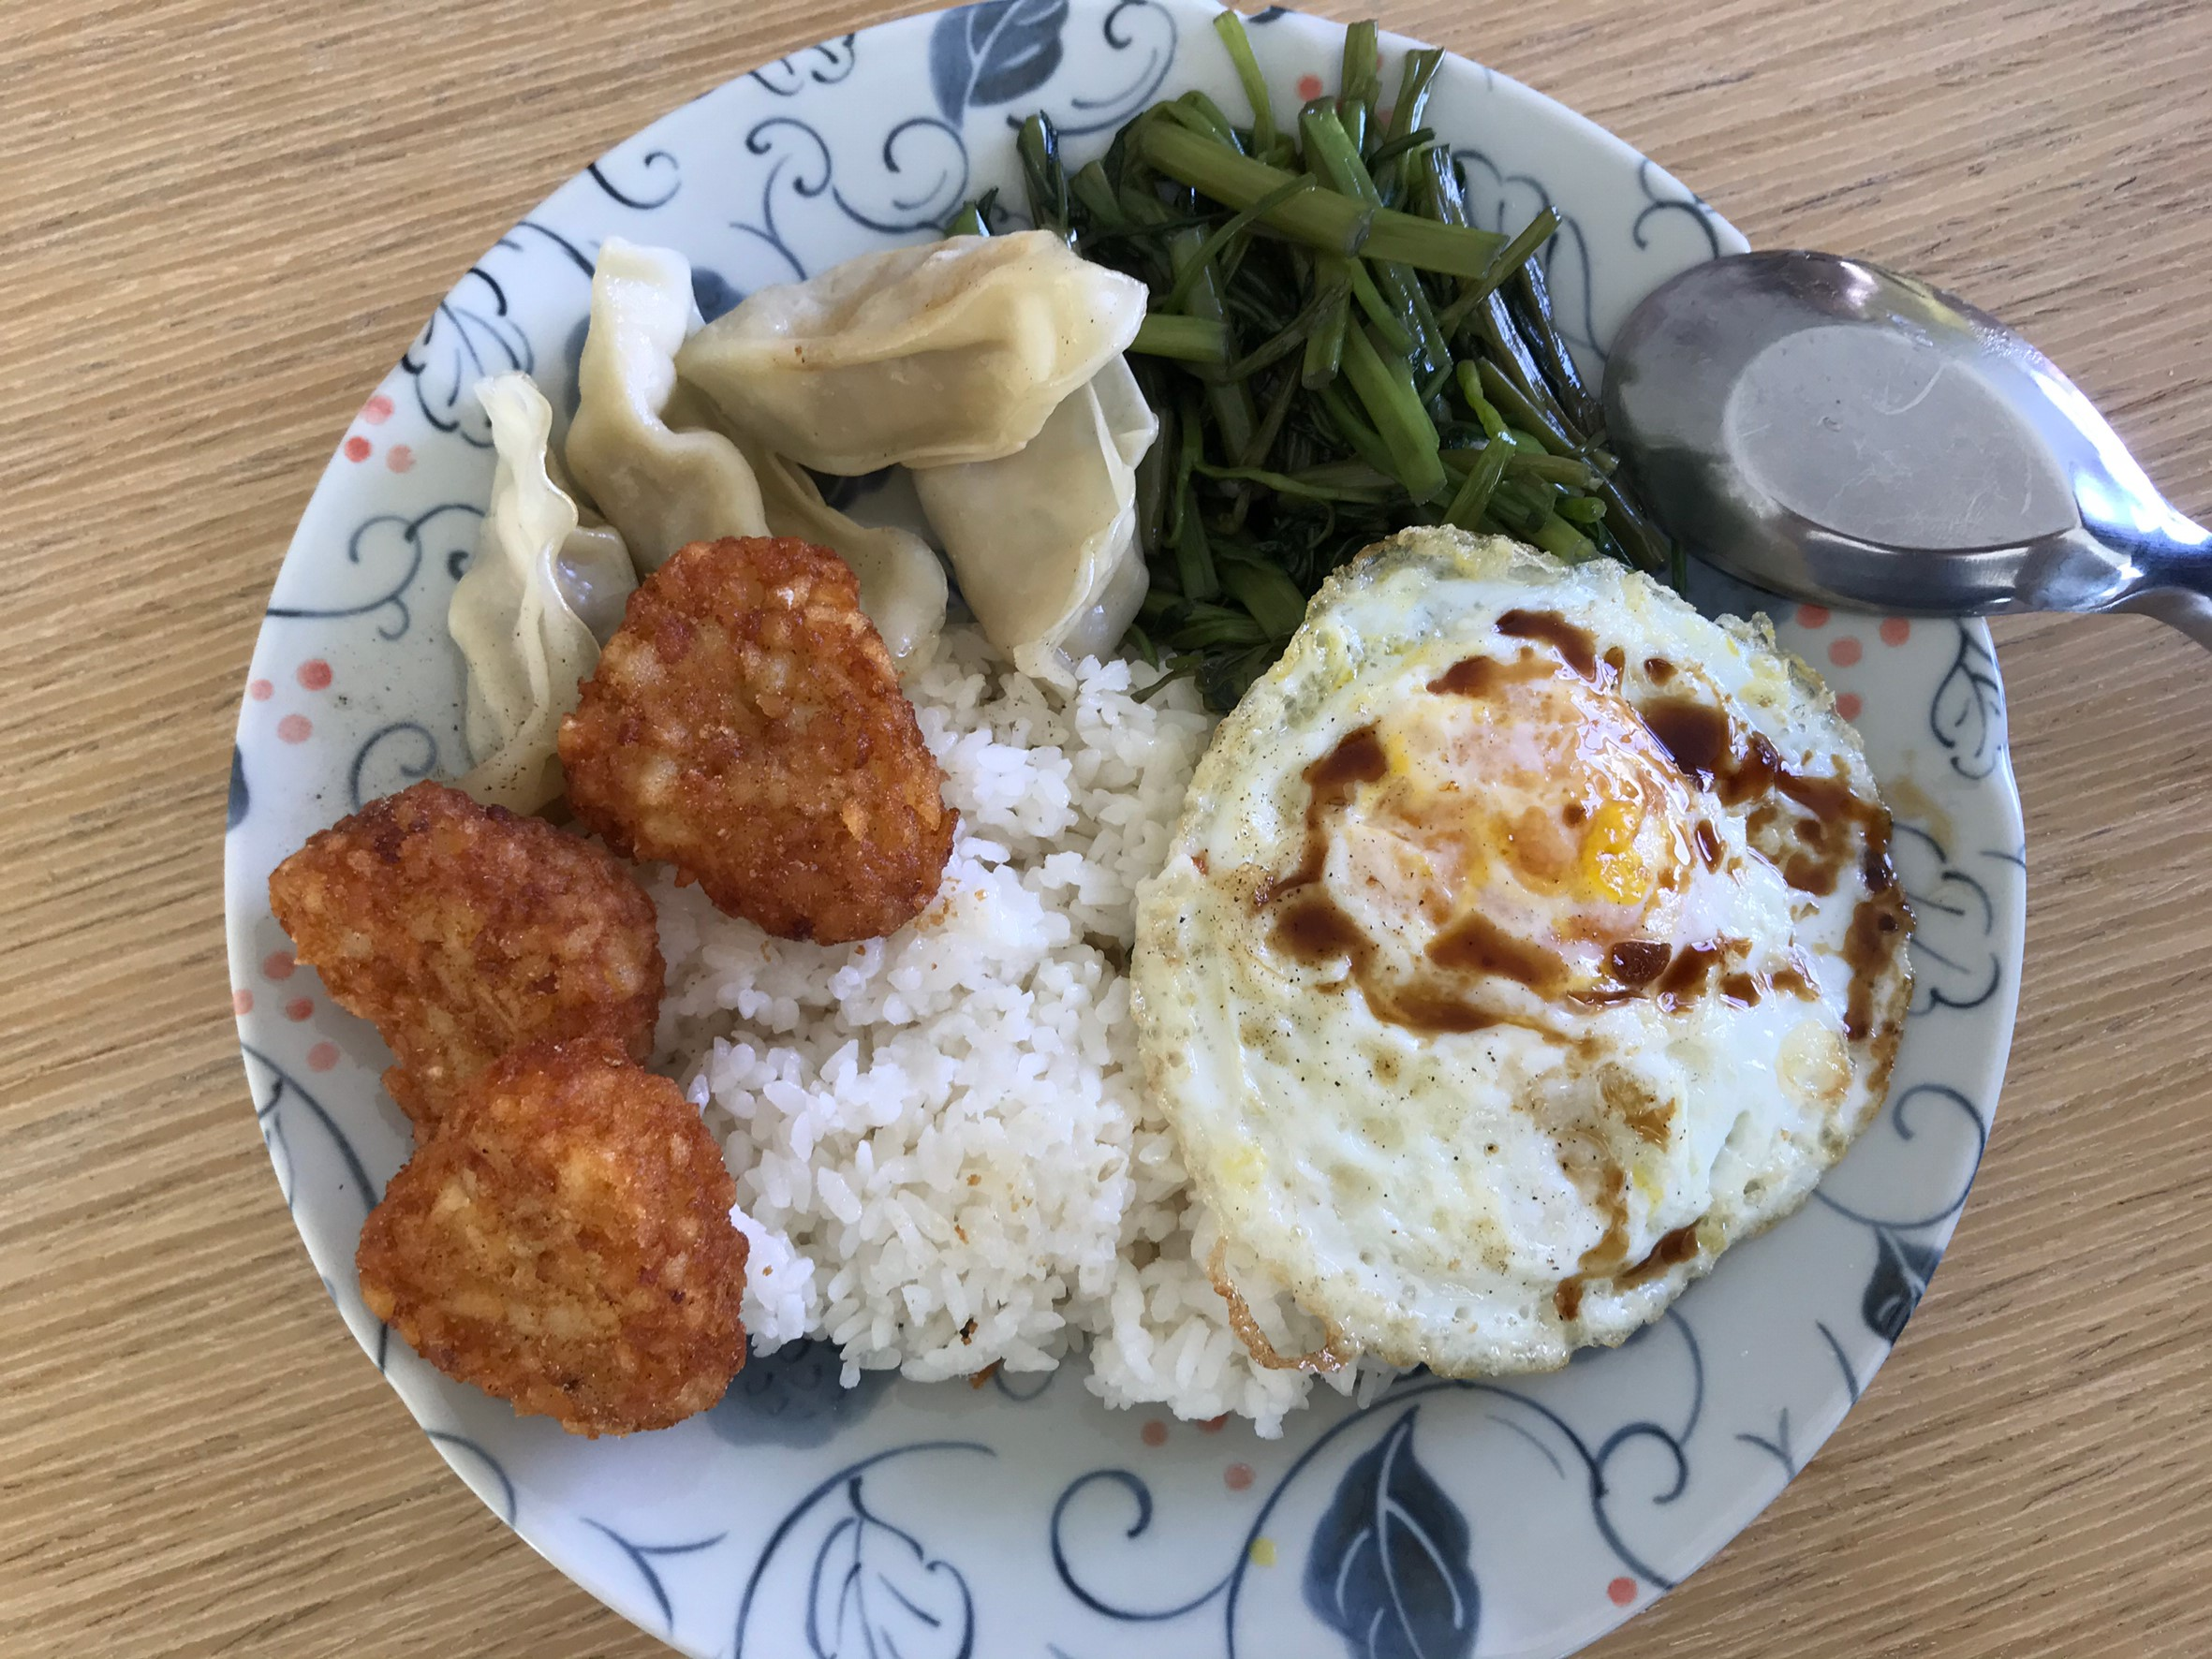carrot_eggs: (542, 532, 964, 941)
fried_dumplings: (565, 213, 1149, 566)
fried_eggs: (1154, 535, 1912, 1356)
rice: (751, 824, 1159, 1392)
triangle_hash_brown: (263, 777, 757, 1441)
water_spinach: (1130, 92, 1602, 532)
